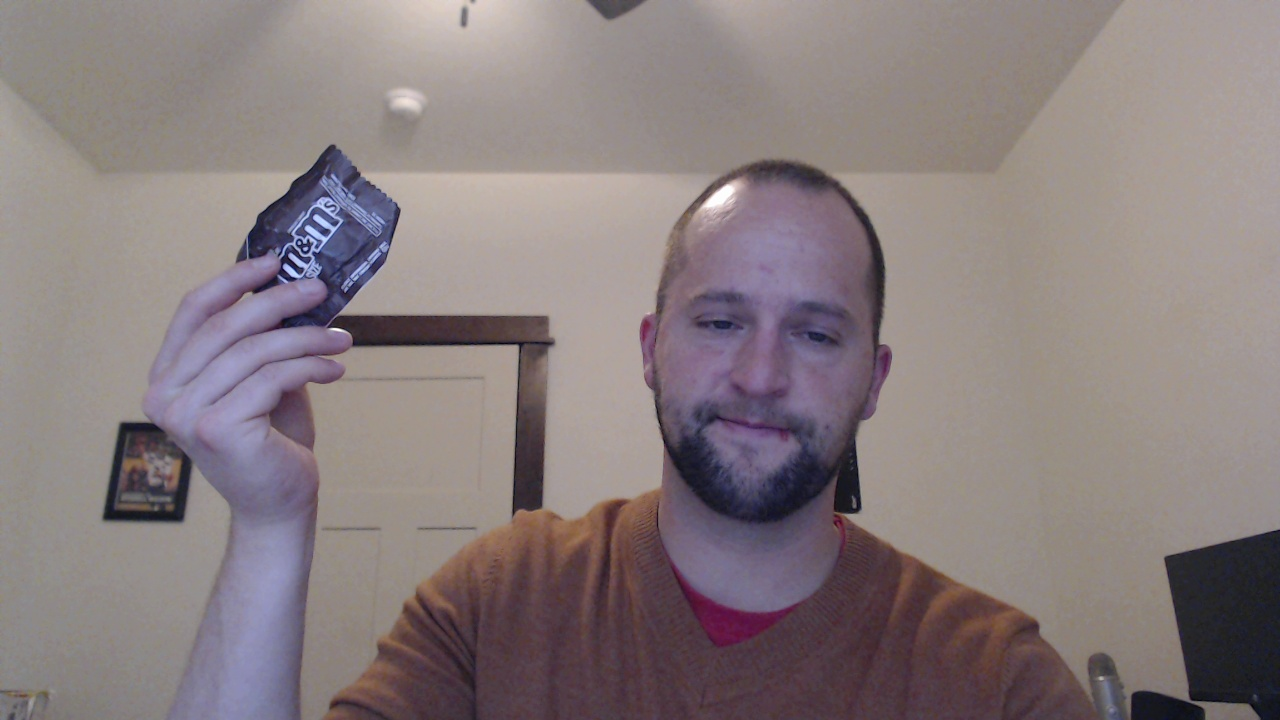MMs_peanut: (206, 151, 405, 350)
